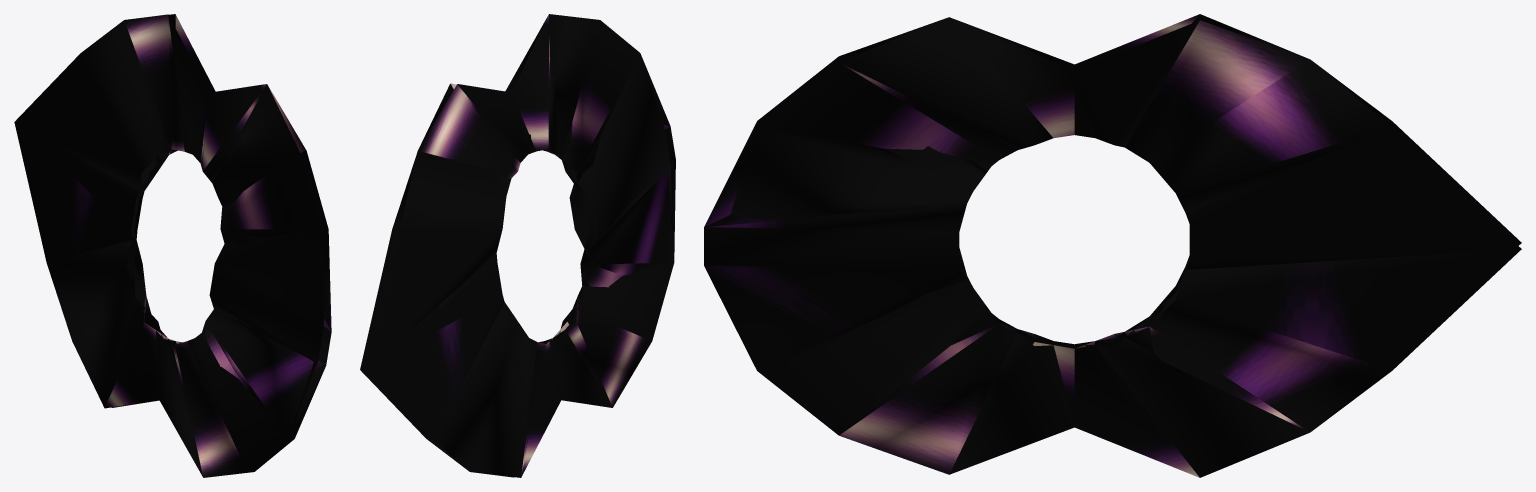
Rendered from target_pn1_map280_20260708-192229.obj.
3 views of the same model, side by side, from view 1: azimuth 30°, elevation 25°; view 2: azimuth 150°, elevation 25°; view 3: azimuth 270°, elevation 25° (orthographic). The views are drawn at different scales.
Parts seen in each view (by area): view 1: object_0, object_1; view 2: object_0, object_1; view 3: object_1, object_0.
Boxes of the visible parts, x1=… form: object_0: x1=15, y1=14, x2=328, y2=477; object_1: x1=14, y1=14, x2=331, y2=477; object_0: x1=360, y1=14, x2=674, y2=477; object_1: x1=360, y1=14, x2=675, y2=477; object_1: x1=704, y1=14, x2=1521, y2=477; object_0: x1=730, y1=14, x2=1521, y2=477.
Bounding box in the file's own units: 4.84 × 24.81 × 36.75.
Materials: 1 (1 with a texture image).
